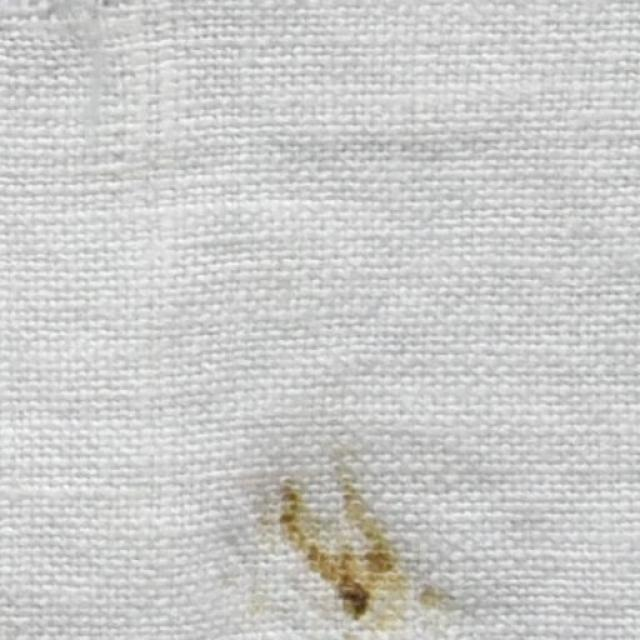Stain: (255, 464, 454, 640)
